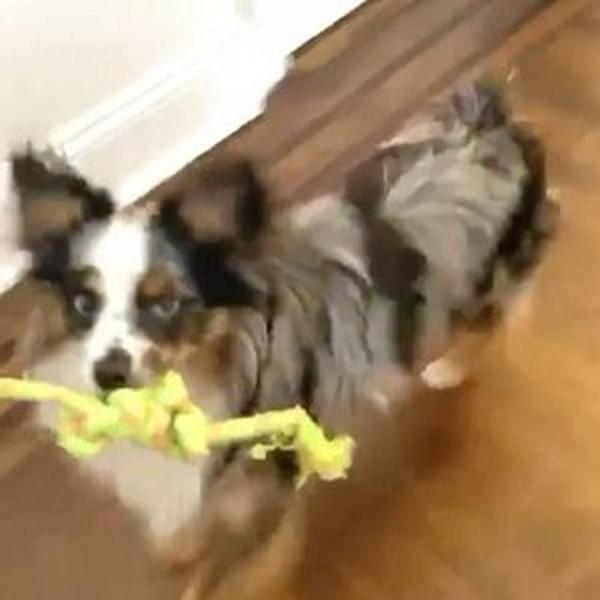allqu: (1, 45, 557, 592)
